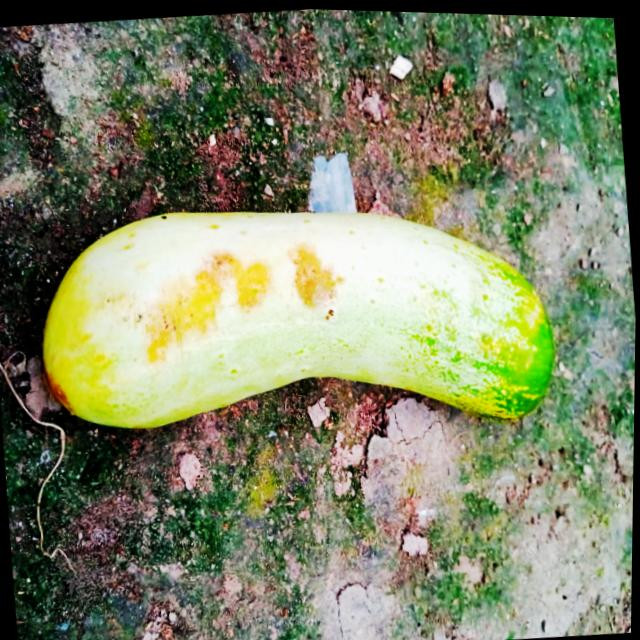Belly-Rot: (131, 226, 352, 370)
